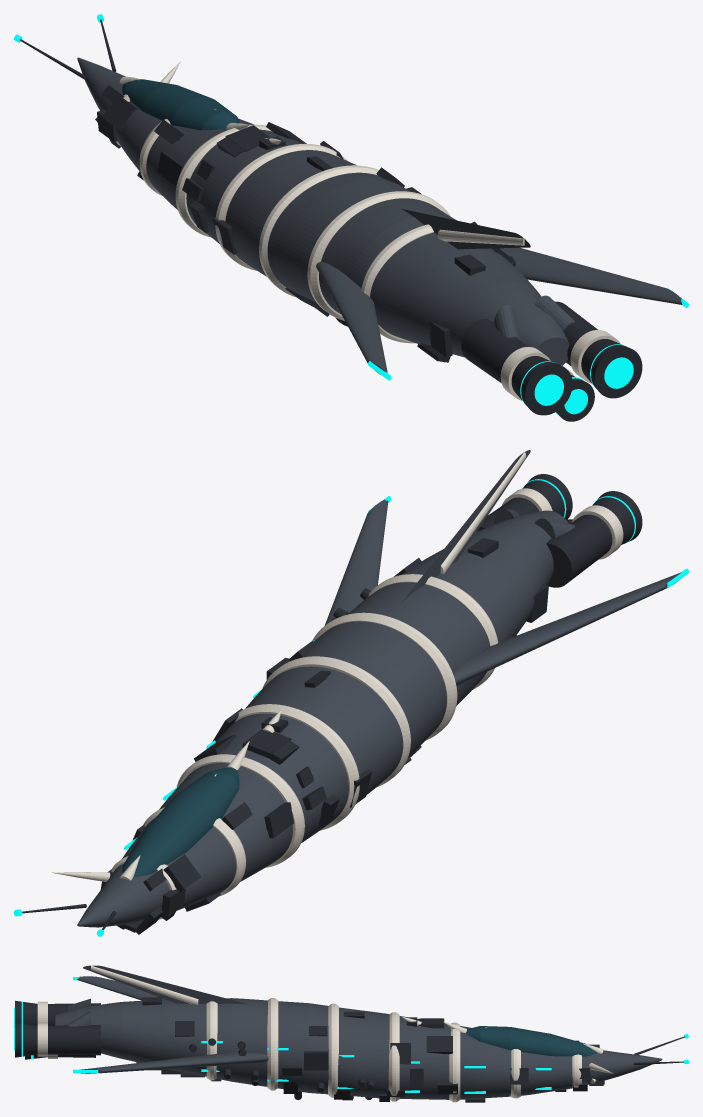
File: alien_ship.glb
3 renders of one model, top to bottom at view 1: azimuth 30°, elevation 25°; view 2: azimuth 150°, elevation 25°; view 3: azimuth 270°, elevation 25°, orthographic. The views are drawn at different scales.
Visible parts, largest first — view 1: hull, fin_1, canopy, fin_-1, pod0_body, ridge_3.4, pod1_nozzle, pod0_nozzle, ridge_1.0, ridge_-1.4, dorsal_blade, ridge_-3.8 (+11 smaller); view 2: hull, canopy, fin_-1, fin_1, pod0_body, ridge_1.0, ridge_3.4, ridge_-1.4, ridge_-3.8, ridge_5.8, dorsal_blade, pod0_nozzle (+6 smaller); view 3: hull, canopy, fin_1, pod1_body, dorsal_blade, ridge_3.4, ridge_1.0, ridge_-1.4, fin_-1, ridge_-3.8, pod1_nozzle, dorsal_edge (+15 smaller).
Boxes of the visible parts, box(x1,y1,x2,y2) form: hull: box(77, 57, 569, 365); fin_1: box(499, 247, 682, 304); canopy: box(122, 79, 239, 130); fin_-1: box(316, 261, 387, 374); pod0_body: box(461, 318, 528, 382); ridge_3.4: box(307, 191, 450, 320); pod1_nozzle: box(581, 339, 642, 398); pod0_nozzle: box(511, 356, 572, 415); ridge_1.0: box(259, 165, 378, 297); ridge_-1.4: box(215, 143, 348, 270); dorsal_blade: box(401, 208, 530, 249); ridge_-3.8: box(175, 124, 271, 237); hull: box(77, 510, 567, 927); canopy: box(122, 767, 239, 877); fin_-1: box(453, 572, 681, 685); fin_1: box(324, 499, 388, 625); pod0_body: box(546, 514, 612, 587); ridge_1.0: box(262, 656, 410, 786); ridge_3.4: box(312, 612, 457, 740); ridge_-1.4: box(235, 704, 359, 830); ridge_-3.8: box(176, 754, 304, 867); ridge_5.8: box(368, 574, 498, 689); dorsal_blade: box(401, 450, 530, 602); pod0_nozzle: box(592, 491, 642, 544); hull: box(55, 998, 662, 1099); canopy: box(465, 1026, 597, 1056); fin_1: box(79, 1052, 268, 1073); pod1_body: box(48, 1025, 100, 1055); dorsal_blade: box(83, 965, 247, 1004); ridge_3.4: box(267, 998, 278, 1090); ridge_1.0: box(328, 1003, 338, 1097); ridge_-1.4: box(388, 1012, 399, 1101); fin_-1: box(77, 976, 163, 1000); ridge_-3.8: box(449, 1022, 460, 1102); pod1_nozzle: box(15, 1022, 37, 1057); dorsal_edge: box(91, 965, 198, 1004).
Bounding box in the file's own units: 8.81 × 5.82 × 26.7.
